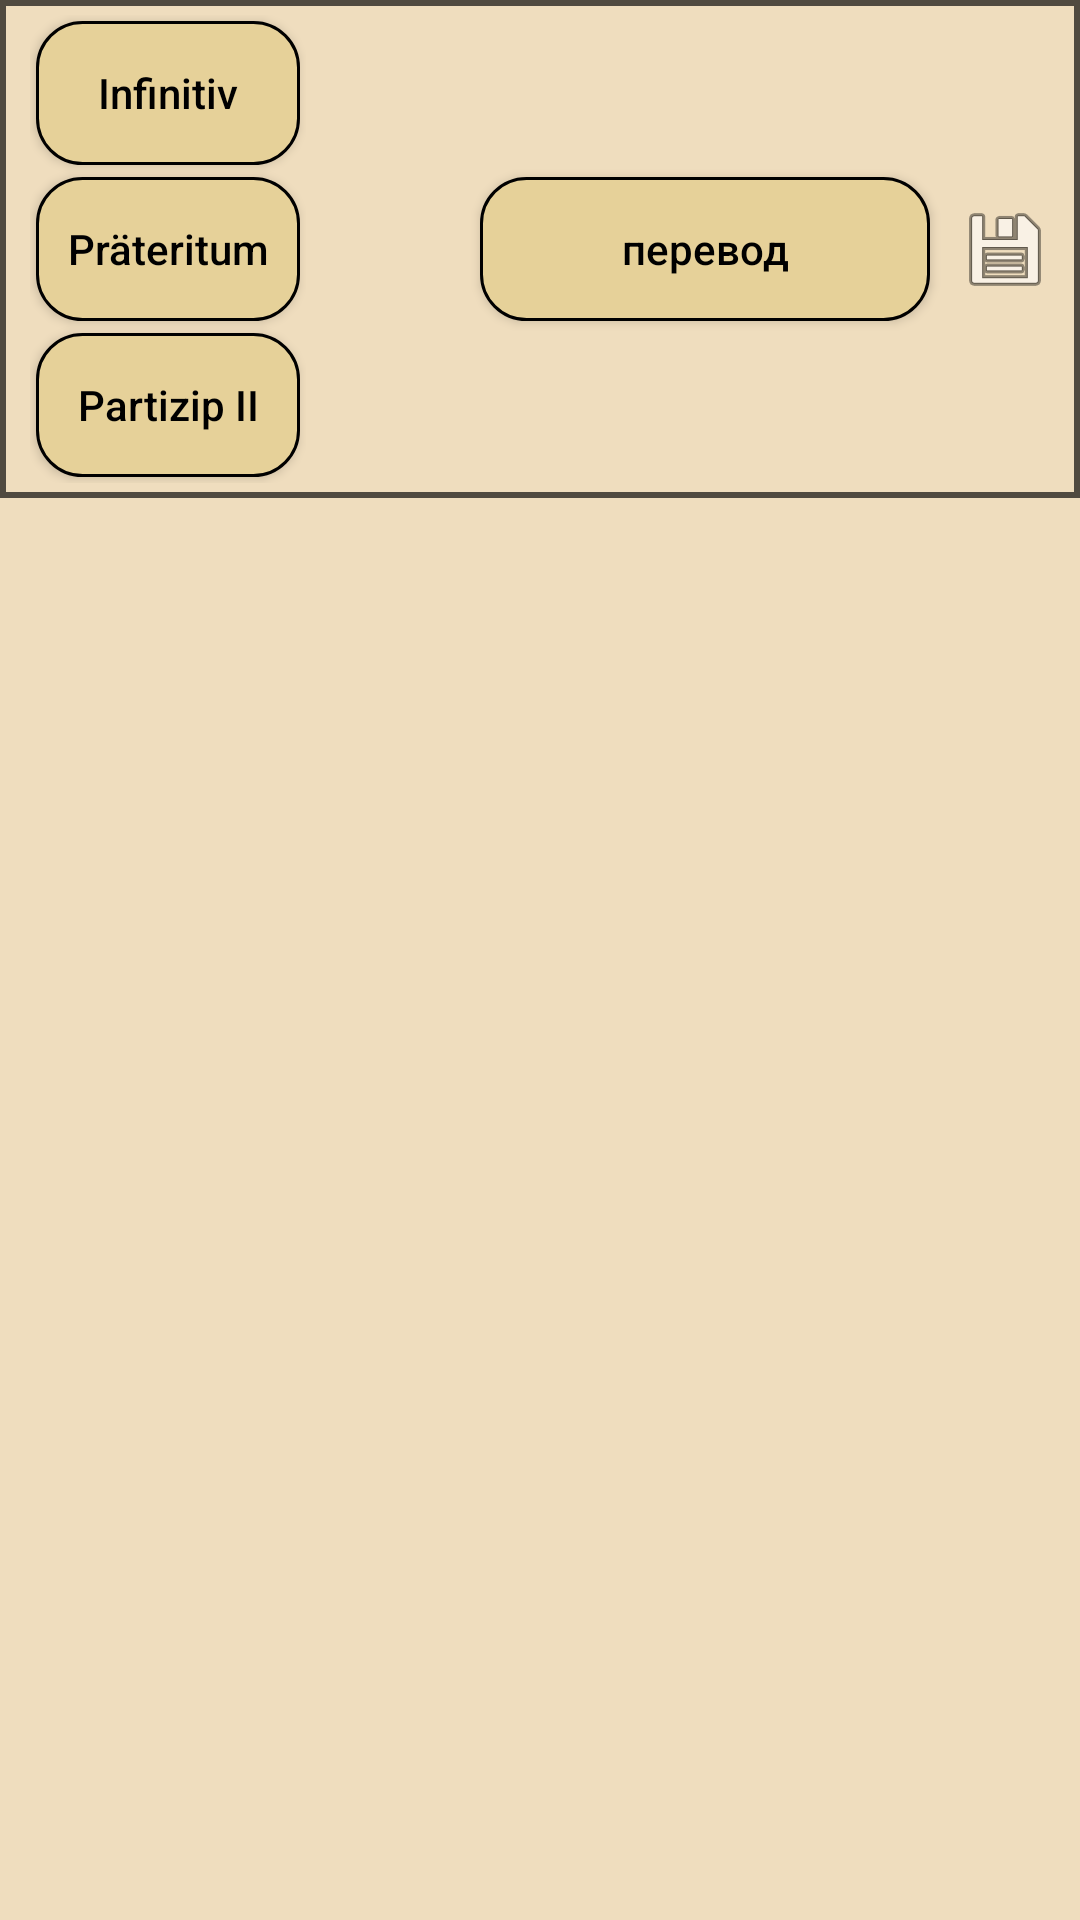

Locate icon controls on the screen. Image size 1080 × 1920, boxes as BBox(x1, y1, x2, y2).
save: BBox(969, 213, 1041, 286)
